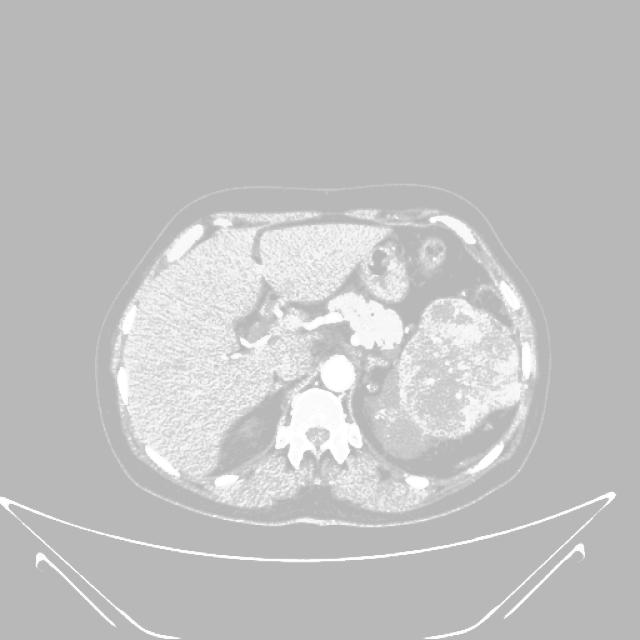TUMOR: (303, 264, 609, 479)
